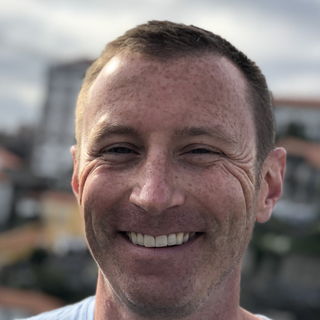eye: (172, 141, 227, 165), (95, 139, 142, 162)
